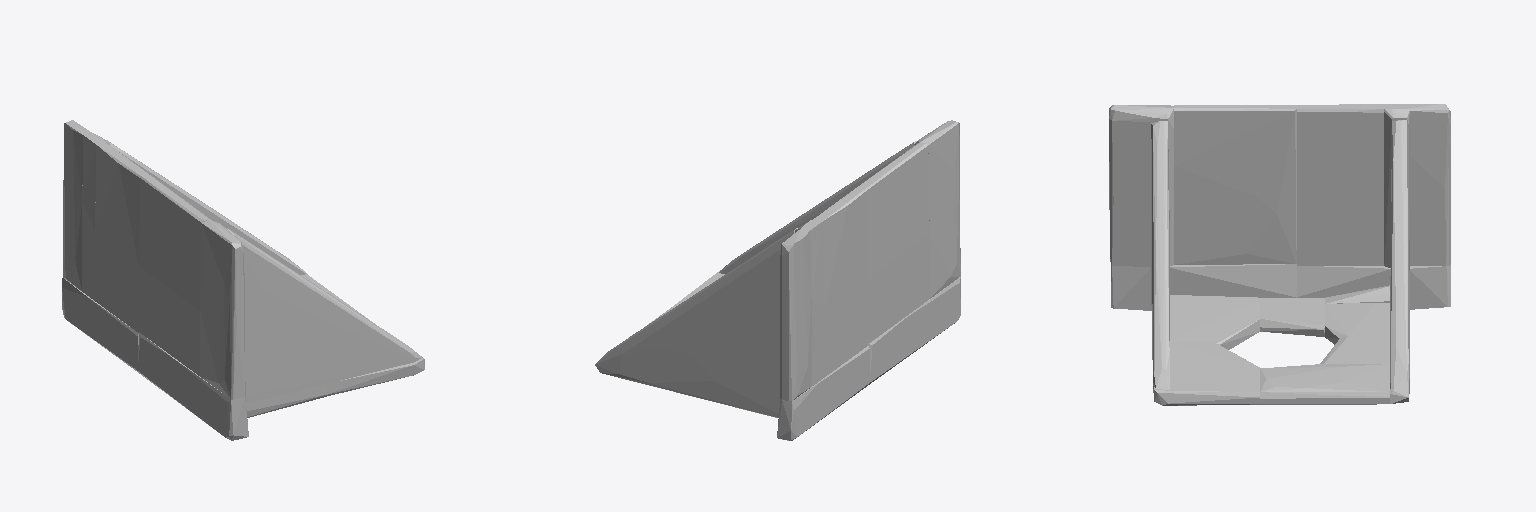
File: nema17_holder_vhacd.obj
3 views of the same model, side by side, from view 1: azimuth 30°, elevation 25°; view 2: azimuth 150°, elevation 25°; view 3: azimuth 270°, elevation 25° (orthographic).
Visible parts, largest first — view 1: convex_3, convex_5, convex_4, convex_6, convex_1, convex_9, convex_0, convex_10, convex_2, convex_8, convex_7; view 2: convex_2, convex_5, convex_4, convex_9, convex_6, convex_1, convex_0, convex_10, convex_3; view 3: convex_5, convex_4, convex_6, convex_9, convex_1, convex_8, convex_2, convex_13, convex_3, convex_0, convex_7, convex_11 (+4 smaller).
Part boxes in pixels (left/top/right/bottom): convex_3: left=226, top=228, right=422, bottom=403; convex_5: left=139, top=175, right=210, bottom=375; convex_4: left=95, top=142, right=148, bottom=332; convex_6: left=200, top=220, right=245, bottom=399; convex_1: left=138, top=332, right=248, bottom=440; convex_9: left=63, top=120, right=91, bottom=290; convex_0: left=62, top=278, right=139, bottom=373; convex_10: left=82, top=133, right=109, bottom=300; convex_2: left=106, top=140, right=306, bottom=274; convex_8: left=326, top=323, right=424, bottom=396; convex_7: left=246, top=384, right=325, bottom=417; convex_2: left=595, top=228, right=797, bottom=417; convex_5: left=858, top=142, right=929, bottom=343; convex_4: left=814, top=187, right=867, bottom=376; convex_9: left=780, top=228, right=811, bottom=400; convex_6: left=914, top=120, right=960, bottom=298; convex_1: left=868, top=277, right=960, bottom=384; convex_0: left=777, top=346, right=869, bottom=440; convex_10: left=795, top=219, right=824, bottom=385; convex_3: left=719, top=141, right=916, bottom=273; convex_5: left=1174, top=105, right=1296, bottom=264; convex_4: left=1297, top=104, right=1383, bottom=265; convex_6: left=1109, top=105, right=1173, bottom=266; convex_9: left=1410, top=104, right=1450, bottom=265; convex_1: left=1111, top=264, right=1296, bottom=310; convex_8: left=1153, top=342, right=1259, bottom=405; convex_2: left=1390, top=120, right=1409, bottom=403; convex_13: left=1260, top=364, right=1389, bottom=404; convex_3: left=1151, top=121, right=1169, bottom=389; convex_0: left=1297, top=265, right=1450, bottom=309; convex_7: left=1151, top=295, right=1259, bottom=349; convex_11: left=1260, top=298, right=1324, bottom=336.
Bounding box in the file's own units: 0.0464 × 0.04 × 0.0624.